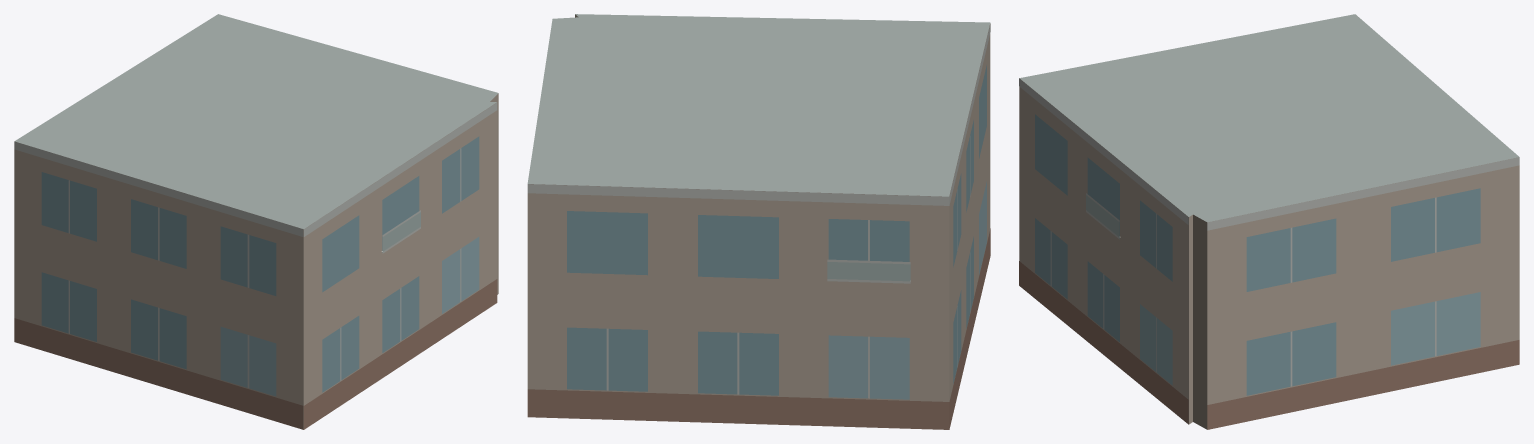
The model's file is survey-upis-32674805.glb.
3 renders of one model, left to right at view 1: azimuth 30°, elevation 25°; view 2: azimuth 150°, elevation 25°; view 3: azimuth 270°, elevation 25°, orthographic. The views are drawn at different scales.
Visible parts, largest first — view 1: survey-upis-32674805.tmp; view 2: survey-upis-32674805.tmp; view 3: survey-upis-32674805.tmp.
Part boxes in pixels (left/top/right/bottom): survey-upis-32674805.tmp: left=14, top=14, right=498, bottom=429; survey-upis-32674805.tmp: left=527, top=14, right=990, bottom=429; survey-upis-32674805.tmp: left=1019, top=14, right=1519, bottom=429.
Size of the model in its own units: 13.15 by 6.1 by 13.34.
